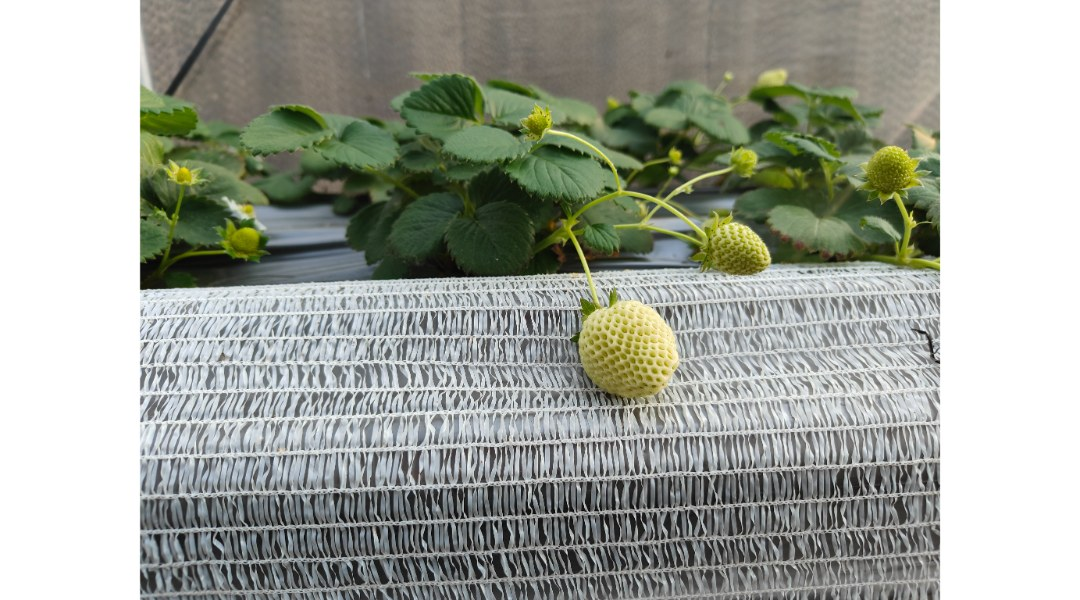berry: (563, 303, 685, 404), (688, 213, 792, 279), (209, 200, 280, 274), (864, 127, 927, 197), (162, 154, 224, 221), (522, 100, 567, 150), (724, 135, 775, 176)
flower: (224, 190, 265, 227)
strain: (562, 229, 614, 312), (559, 122, 617, 188), (894, 184, 912, 262)
